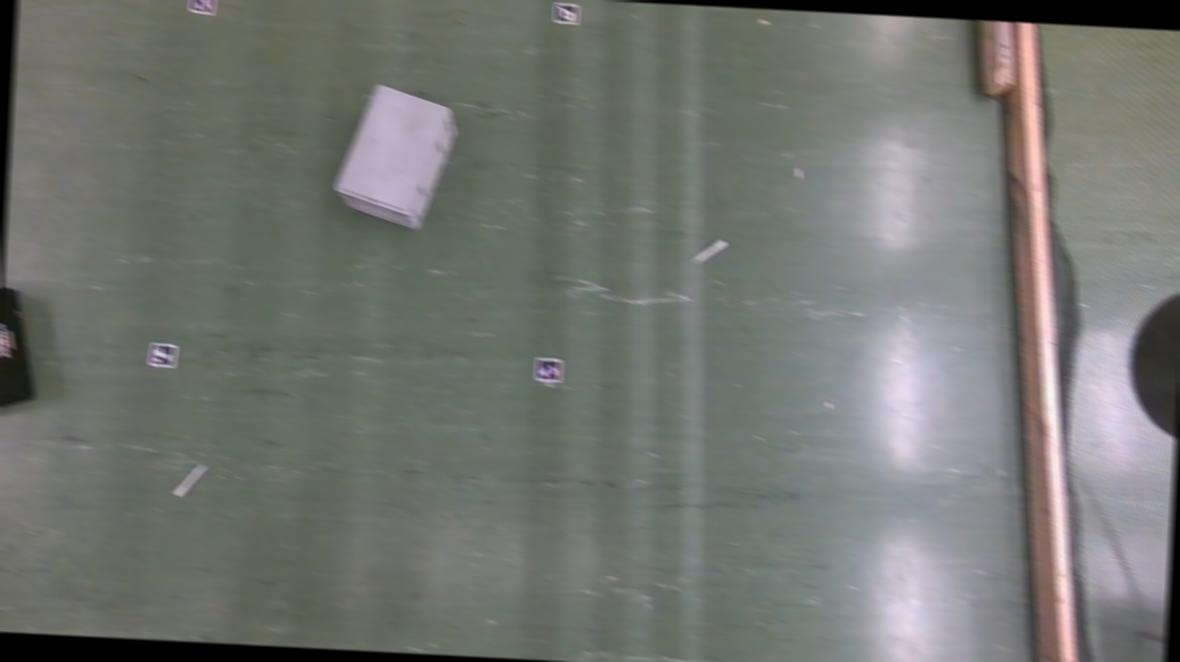probes: (174, 465, 204, 500), (694, 240, 725, 266)
rako: (331, 84, 458, 233), (0, 281, 38, 422)
